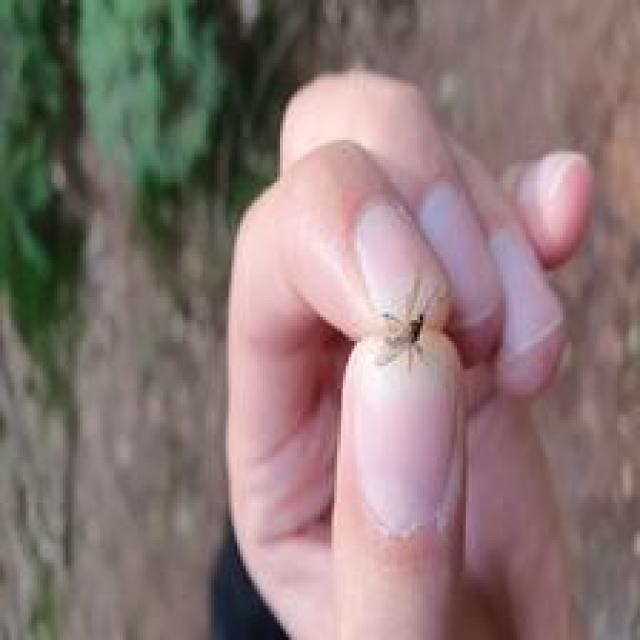Culex: (364, 274, 447, 372)
